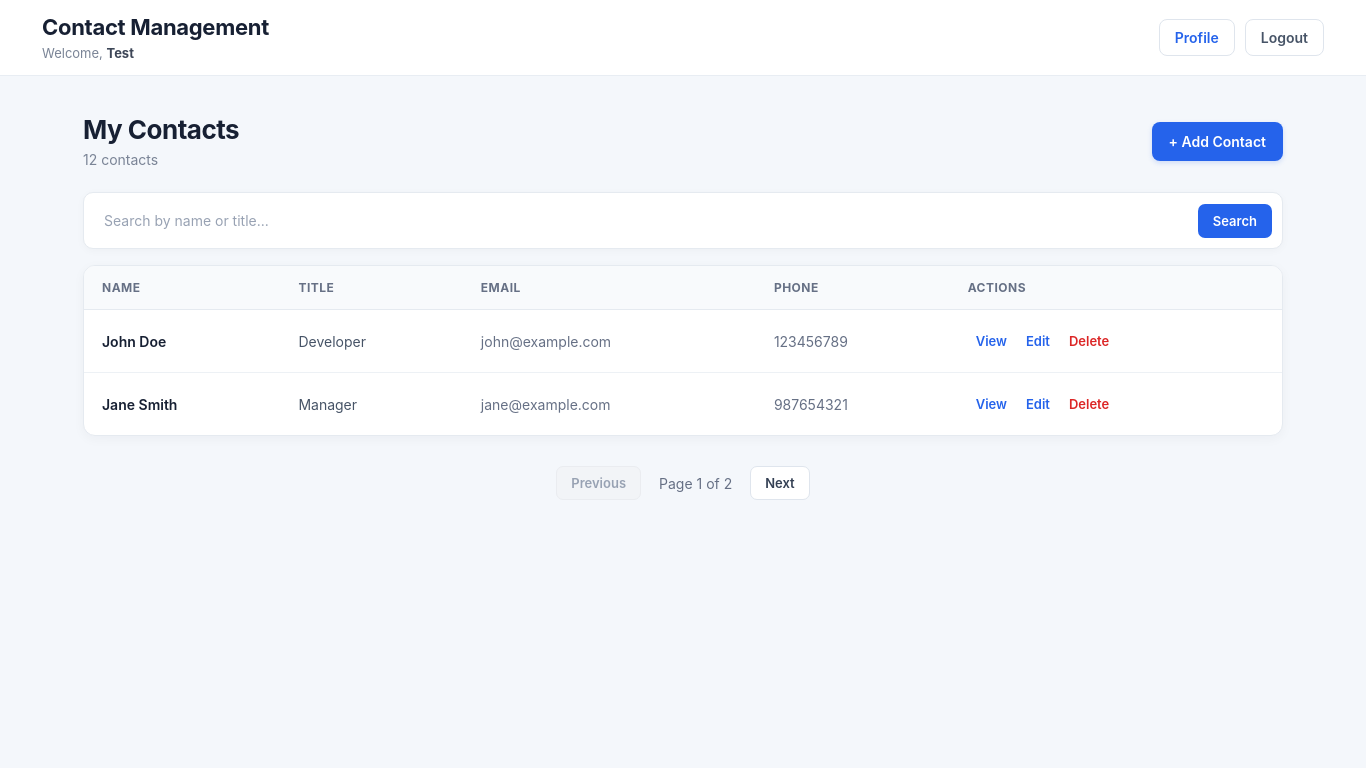
it: Contacts › opens delete modal
The width and height of the screenshot is (1366, 768).
Check: the text "John Doe" is shown, box [102, 332, 166, 350]
Click the button "Delete" in the row of "John Doe" at (1089, 341), box [1061, 327, 1117, 355]
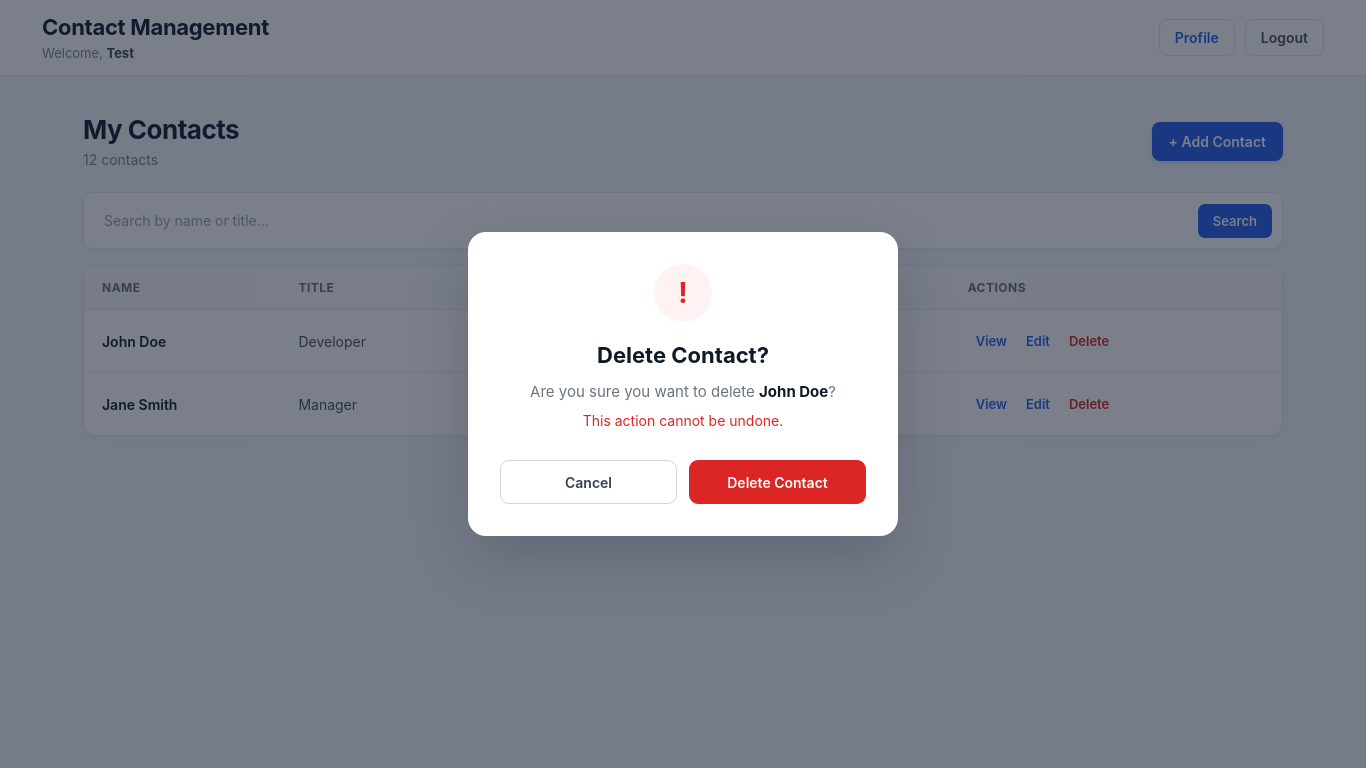
Check: the heading "Delete Contact?" is shown, box [597, 342, 769, 368]
Check: the text "Are you sure you want to delete John Doe?" is shown, box [530, 382, 836, 401]
